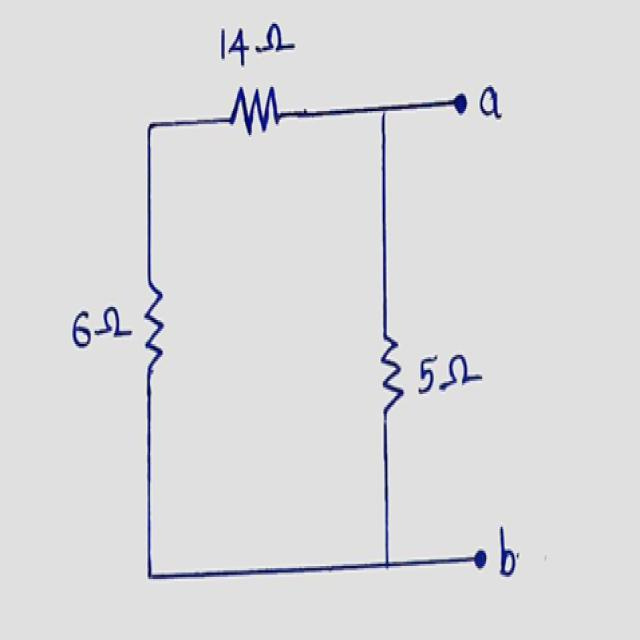resistor: (136, 273, 176, 378), (228, 81, 284, 146), (374, 325, 410, 420)
